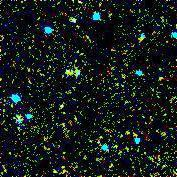star: (44, 148, 74, 177)
